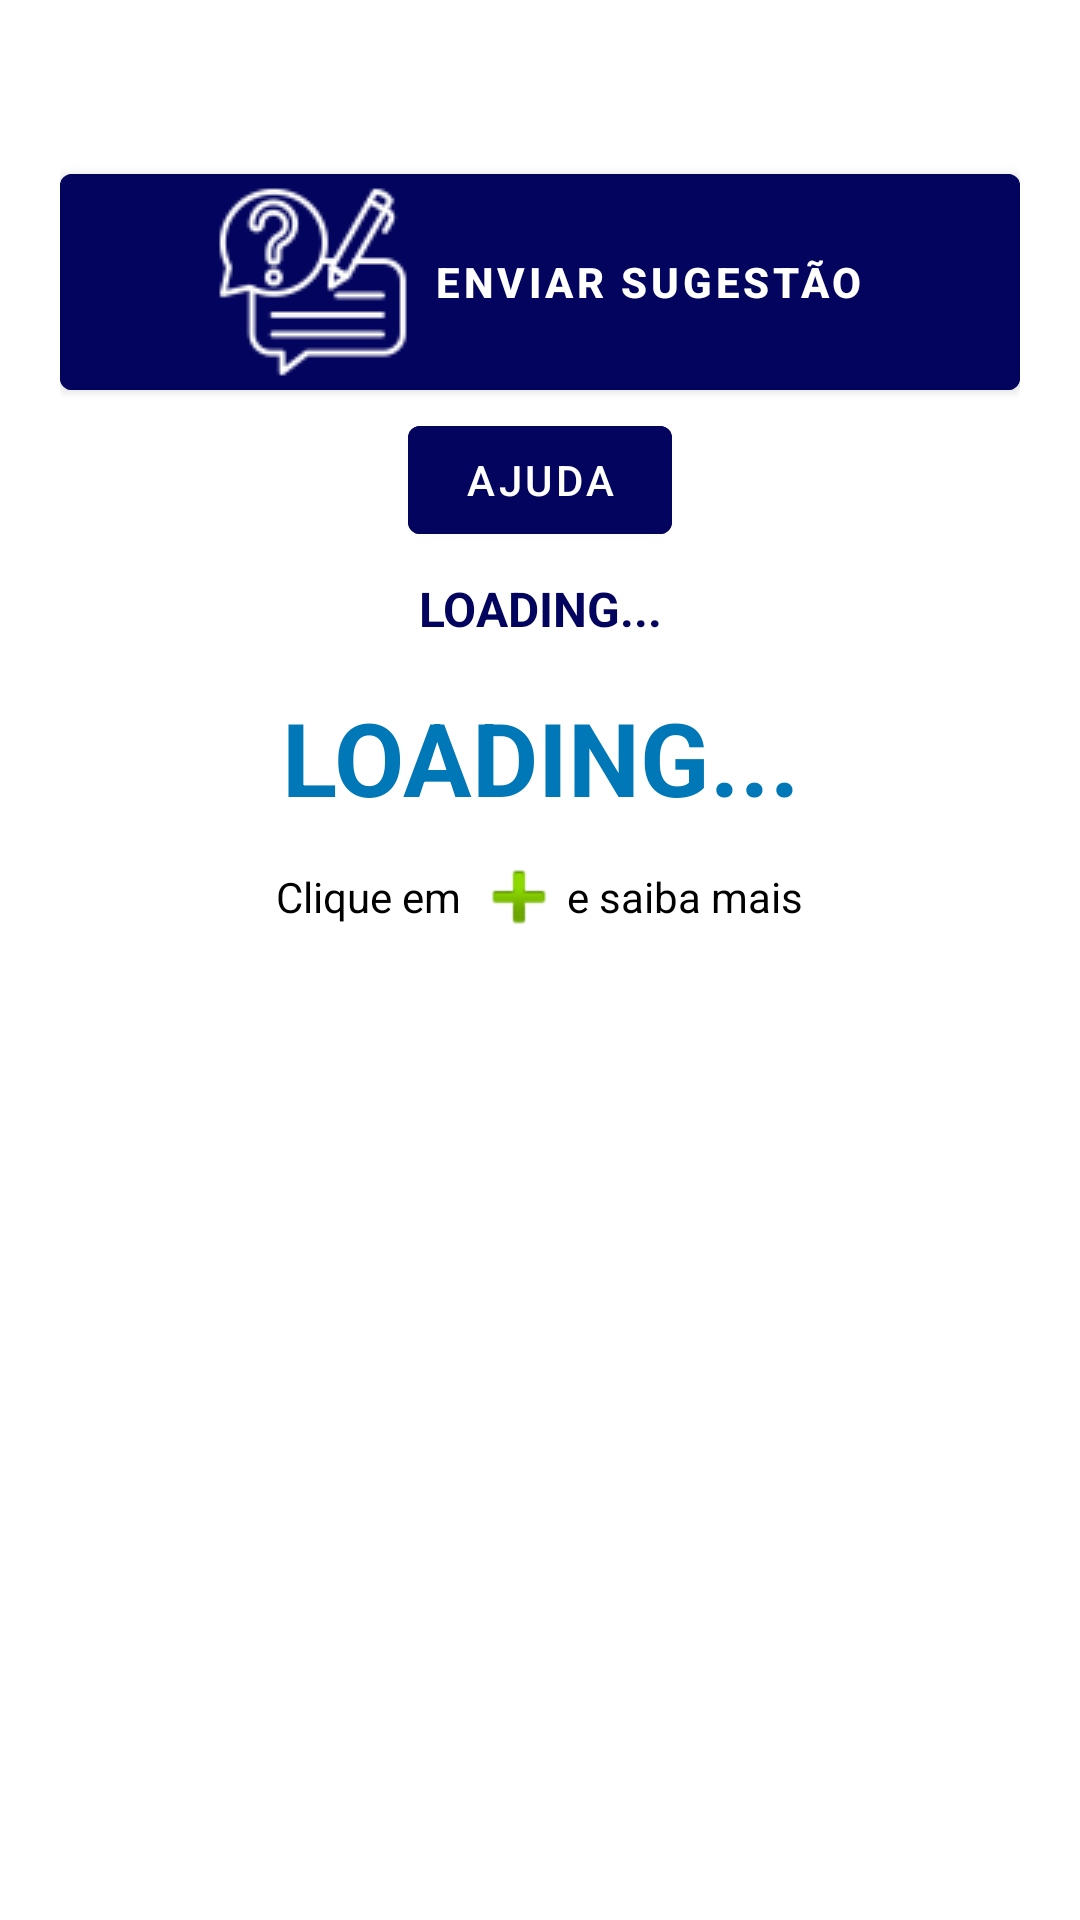

Icon click points for this 1080 x 1920 phone screenshot, format [x,y]:
add: [519,897]
